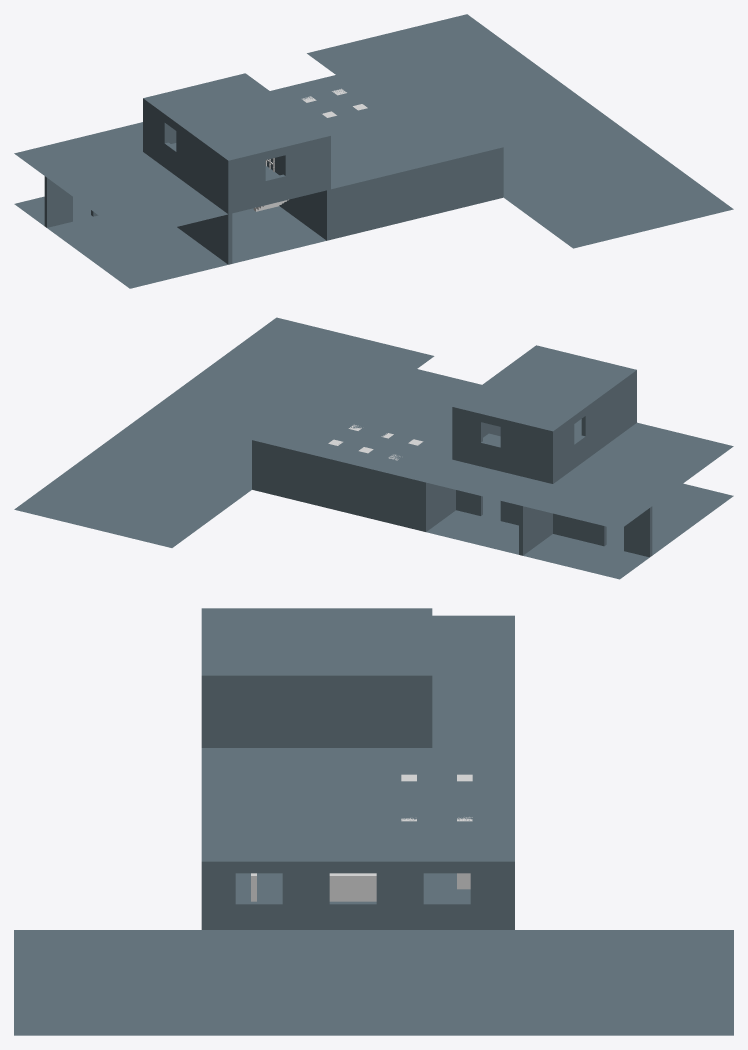
File: zone01.gltf
3 views of the same model, one above another, from view 1: azimuth 30°, elevation 25°; view 2: azimuth 150°, elevation 25°; view 3: azimuth 270°, elevation 25° (orthographic). The views are drawn at different scales.
Visible parts, largest first — view 1: zone, plafond; view 2: zone, plafond; view 3: zone, plafond, Cube.001.
Part boxes in pixels (box(x1,y1,x2,y2)): zone: box(14, 14, 733, 288); plafond: box(14, 65, 496, 238); zone: box(14, 317, 733, 579); plafond: box(258, 348, 733, 529); zone: box(14, 608, 733, 1035); plafond: box(201, 611, 514, 859); Cube.001: box(329, 873, 376, 901).
Bounding box in the file's own units: 26.6 × 4.95 × 23.
